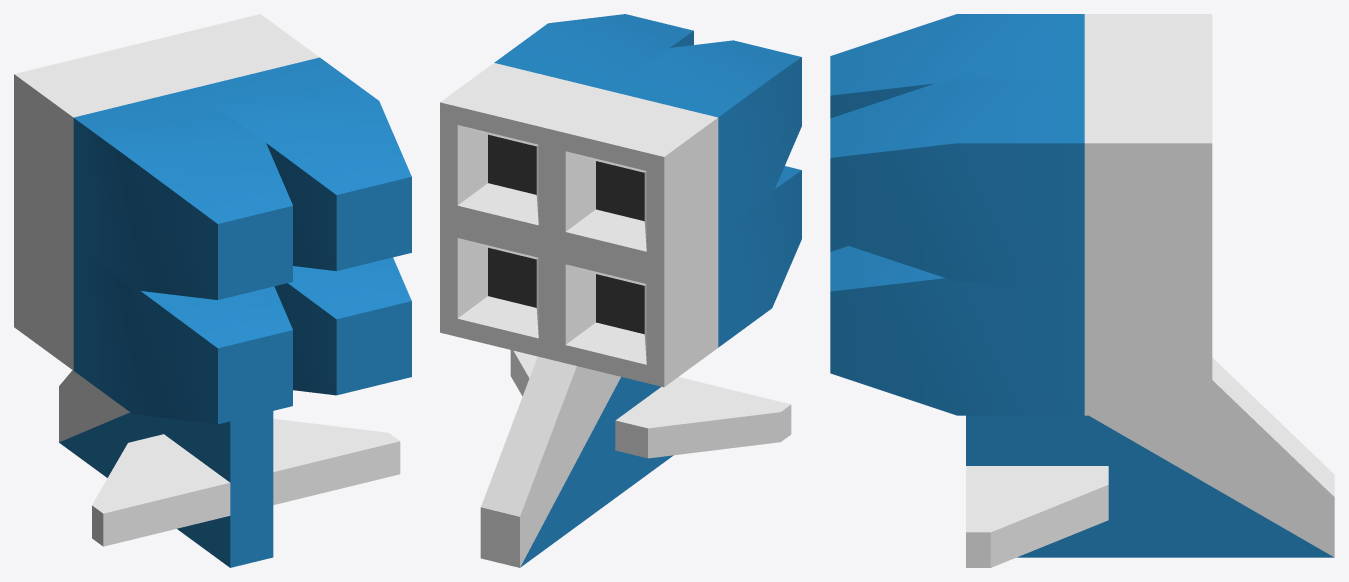
File: Spaceship Missile.fbx
3 views of the same model, side by side, from view 1: azimuth 30°, elevation 25°; view 2: azimuth 150°, elevation 25°; view 3: azimuth 270°, elevation 25° (orthographic). The views are drawn at different scales.
Visible parts, largest first — view 1: engine_plane_5, plane_rudderLarge_8, engine_plane_6, engine_plane_4, engine_plane_7; view 2: engine_plane_5, plane_rudderLarge_8, engine_plane_6, engine_plane_4, engine_plane_7; view 3: engine_plane_4, plane_rudderLarge_8, engine_plane_7, engine_plane_5.
Boxes of the visible parts, box(x1,y1,x2,y2) form: engine_plane_5: box(14, 43, 292, 299); plane_rudderLarge_8: box(59, 370, 400, 567); engine_plane_6: box(14, 203, 292, 424); engine_plane_4: box(142, 14, 411, 270); engine_plane_7: box(274, 257, 411, 395); engine_plane_5: box(548, 40, 801, 273); plane_rudderLarge_8: box(480, 350, 791, 567); engine_plane_6: box(548, 166, 801, 387); engine_plane_4: box(440, 14, 693, 247); engine_plane_7: box(440, 217, 556, 360); engine_plane_4: box(830, 76, 1212, 281); plane_rudderLarge_8: box(966, 358, 1334, 567); engine_plane_7: box(830, 246, 1212, 415); engine_plane_5: box(830, 14, 1212, 118).
Size of the model in its own units: 10 by 14 by 13.68.
